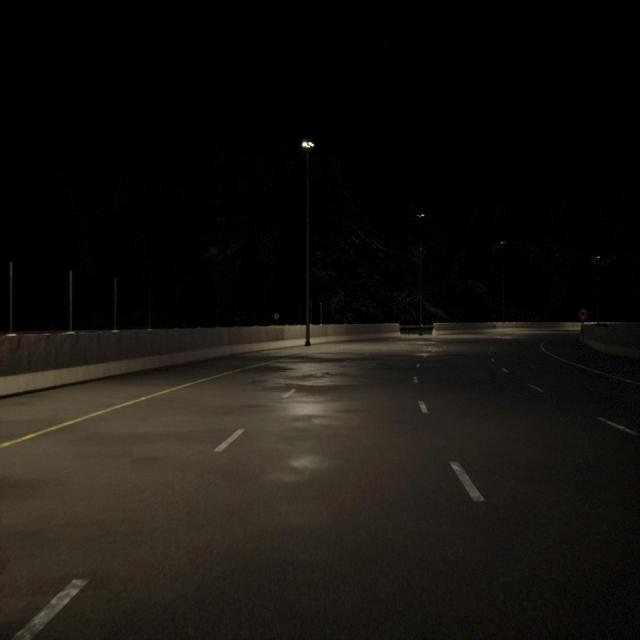Traffic_Signs: (579, 309, 587, 319), (274, 313, 279, 319)
